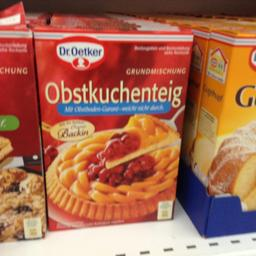cake: (31, 23, 192, 233)
